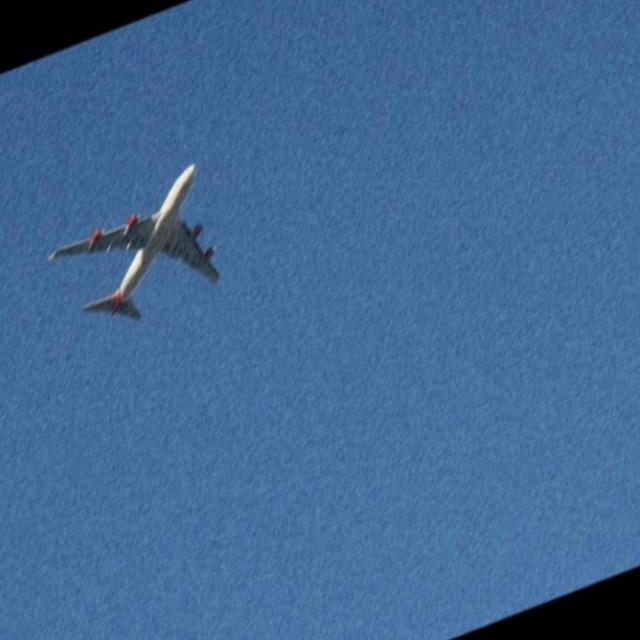airplane: (46, 162, 226, 323)
